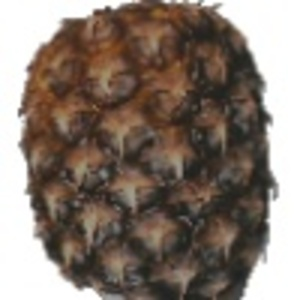abacaxi: (13, 2, 276, 292)
